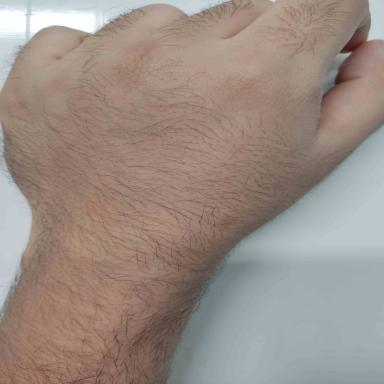normal skin: (1, 0, 383, 384), (129, 91, 131, 95)
